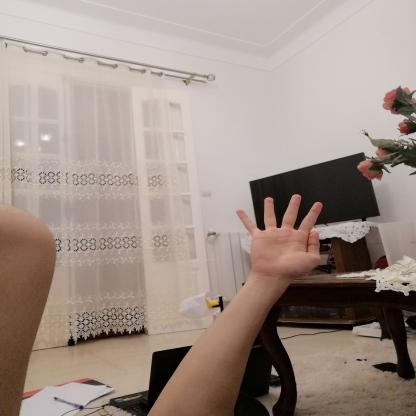SHEEN: (223, 186, 330, 281)
